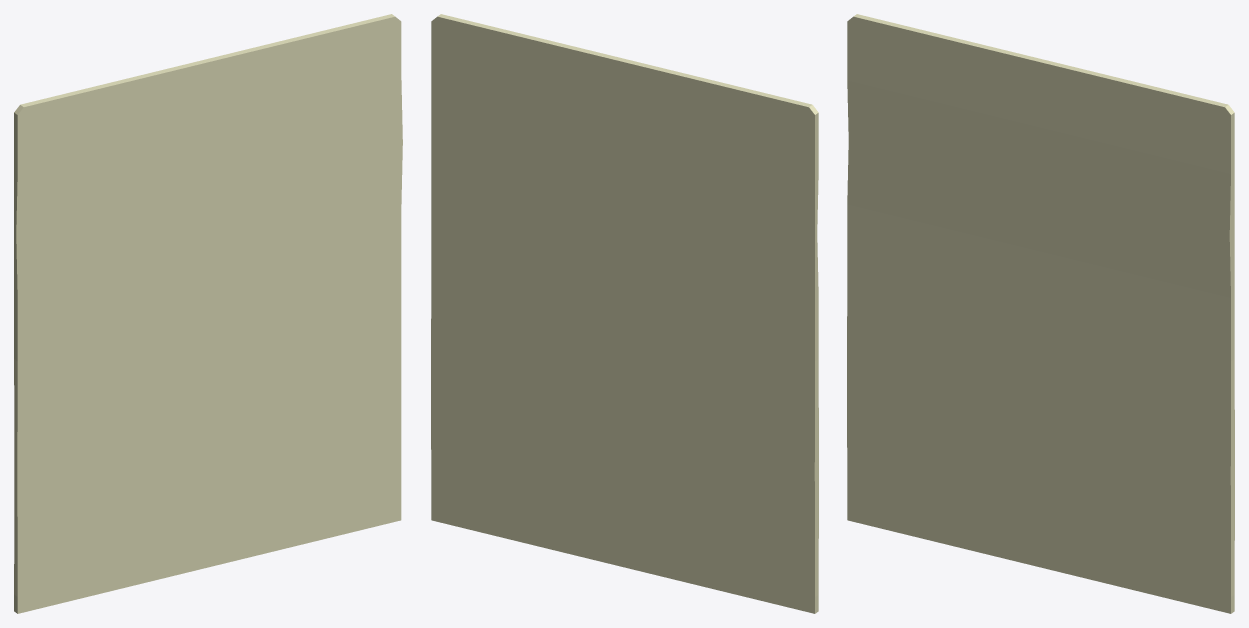
The model's file is PAPIER.fbx.
3 views of the same model, side by side, from view 1: azimuth 30°, elevation 25°; view 2: azimuth 150°, elevation 25°; view 3: azimuth 330°, elevation 25° (orthographic).
Visible parts, largest first — view 1: PAPIER; view 2: PAPIER; view 3: PAPIER.
Boxes of the visible parts, <box> form: PAPIER: <box>14,14,402,613</box>; PAPIER: <box>431,14,818,613</box>; PAPIER: <box>847,14,1234,613</box>.
Bounding box in the file's own units: 6.38 × 8.02 × 0.144.
